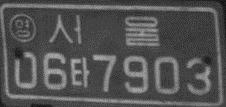0: (153, 55, 180, 95), (14, 50, 37, 90)
3: (185, 57, 211, 97)
6: (42, 52, 67, 90)
7: (92, 52, 117, 92)
9: (123, 54, 149, 95)
서울_D: (47, 15, 160, 48)
영: (8, 12, 37, 43)
타: (69, 56, 90, 88)
